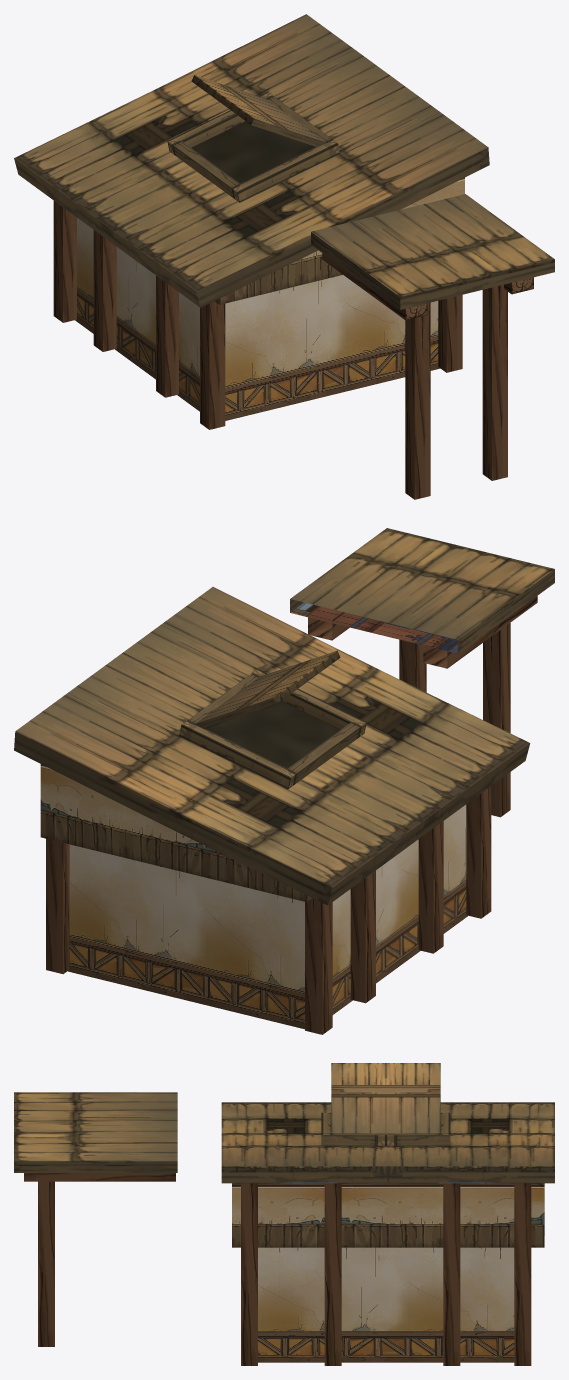
The model's file is 2_CZ_PeiJian_01.FBX.
The picture shows the model from 3 angles, top to bottom: view 1: azimuth 30°, elevation 25°; view 2: azimuth 150°, elevation 25°; view 3: azimuth 270°, elevation 25°; orthographic projection. The views are drawn at different scales.
Parts seen in each view (by area): view 1: 2_CZ_PeiJian_01_01, 2_CZ_PeiJian_01_02, 2_CZ_PeiJian_01_03; view 2: 2_CZ_PeiJian_01_01, 2_CZ_PeiJian_01_02, 2_CZ_PeiJian_01_03; view 3: 2_CZ_PeiJian_01_01, 2_CZ_PeiJian_01_02, 2_CZ_PeiJian_01_03.
Boxes of the visible parts, left/top/right/bottom form: 2_CZ_PeiJian_01_01: left=14, top=14, right=489, bottom=429; 2_CZ_PeiJian_01_02: left=311, top=194, right=554, bottom=499; 2_CZ_PeiJian_01_03: left=167, top=75, right=339, bottom=202; 2_CZ_PeiJian_01_01: left=14, top=587, right=530, bottom=1034; 2_CZ_PeiJian_01_02: left=290, top=528, right=554, bottom=817; 2_CZ_PeiJian_01_03: left=179, top=650, right=366, bottom=789; 2_CZ_PeiJian_01_01: left=221, top=1102, right=554, bottom=1365; 2_CZ_PeiJian_01_02: left=14, top=1092, right=177, bottom=1346; 2_CZ_PeiJian_01_03: left=321, top=1063, right=450, bottom=1145.
Bounding box in the file's own units: 455 × 391 × 794.
